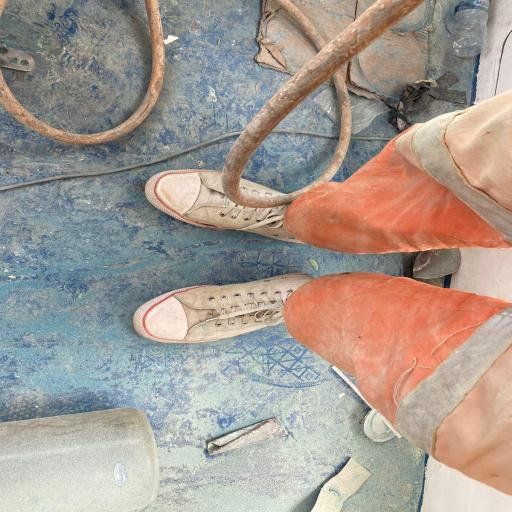not_safety_shoe: (147, 158, 319, 248), (132, 271, 312, 346)
